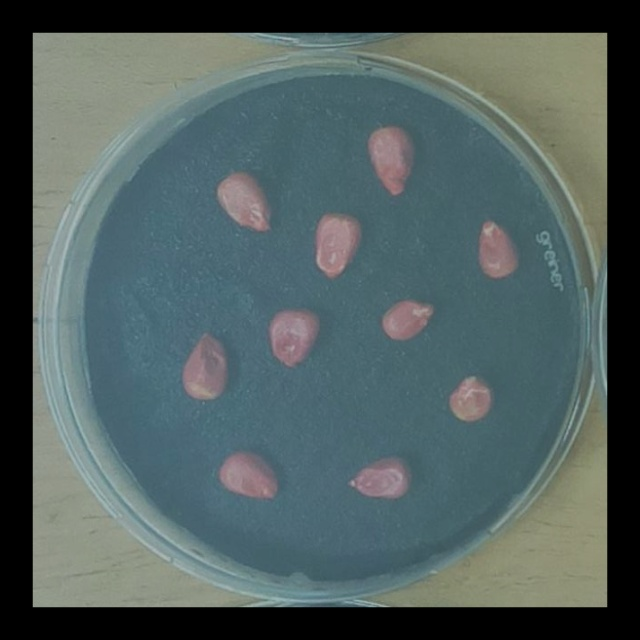Zea mays: (362, 117, 423, 202), (211, 442, 287, 506), (262, 301, 328, 374), (211, 164, 277, 237), (307, 205, 368, 283), (177, 323, 233, 405), (342, 449, 416, 504), (472, 212, 525, 283), (376, 291, 441, 346), (443, 367, 498, 425)
